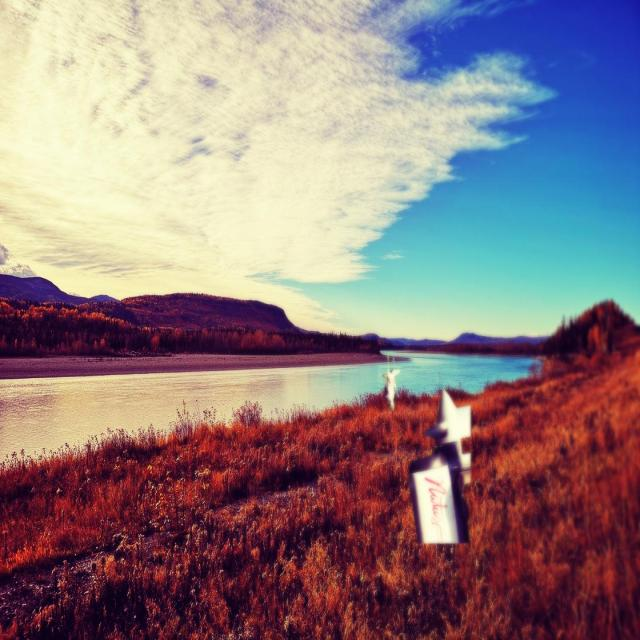airplane: (381, 356, 471, 546)
